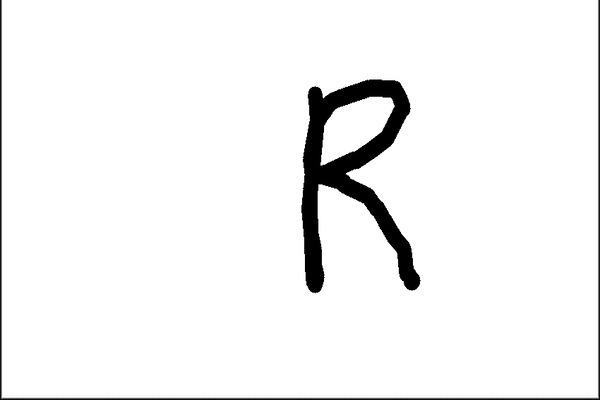R: (295, 59, 440, 307)
